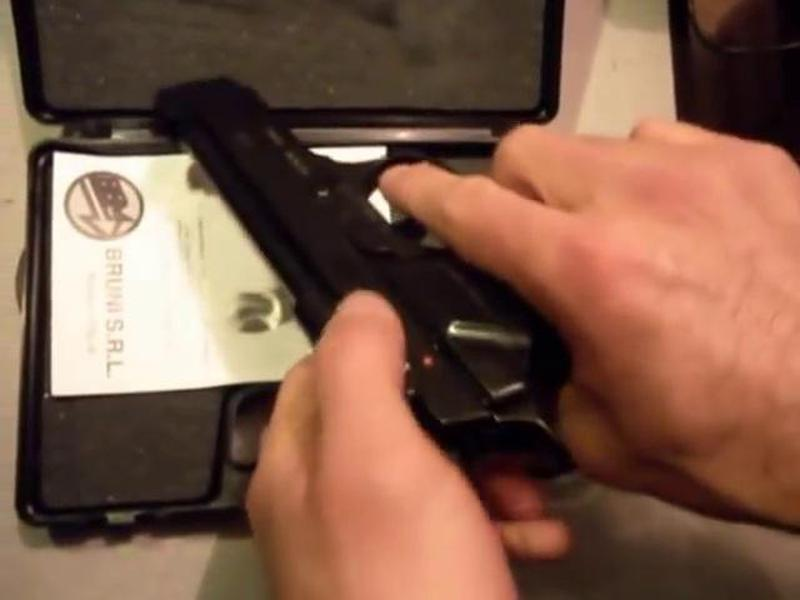Pistola: (146, 46, 639, 476)
